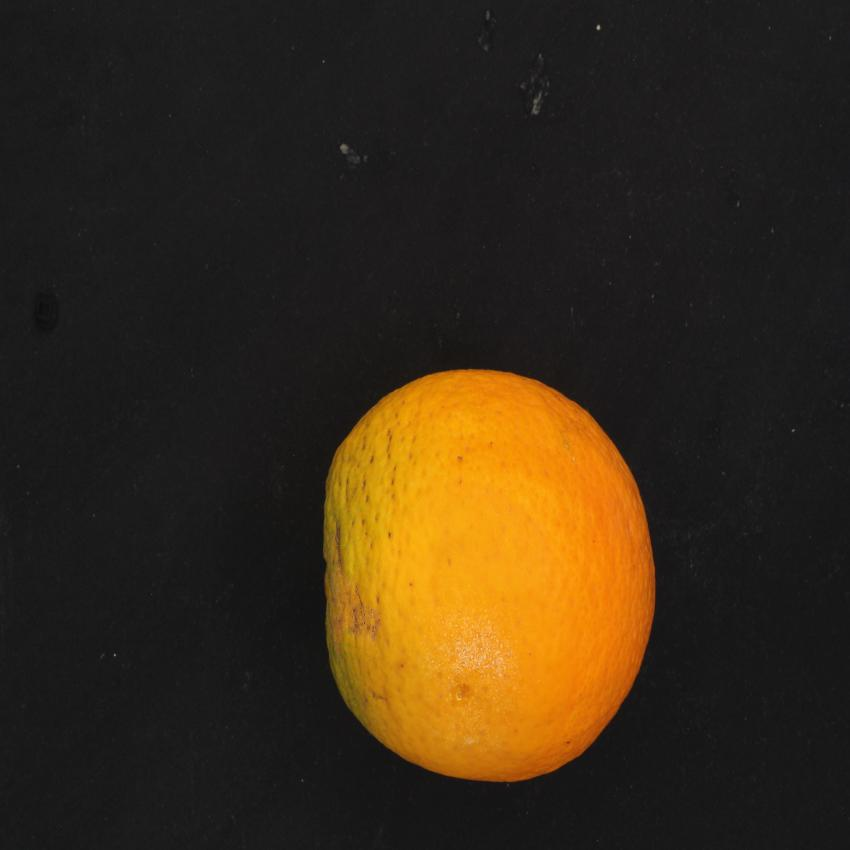Mal estado: (310, 359, 676, 798)
